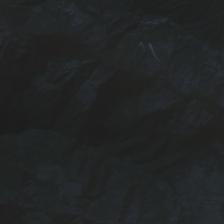landslides: (150, 45, 159, 60)
